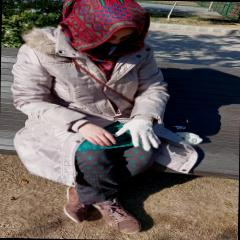gloved: (120, 115, 162, 150)
not-gloved: (74, 123, 116, 146)
